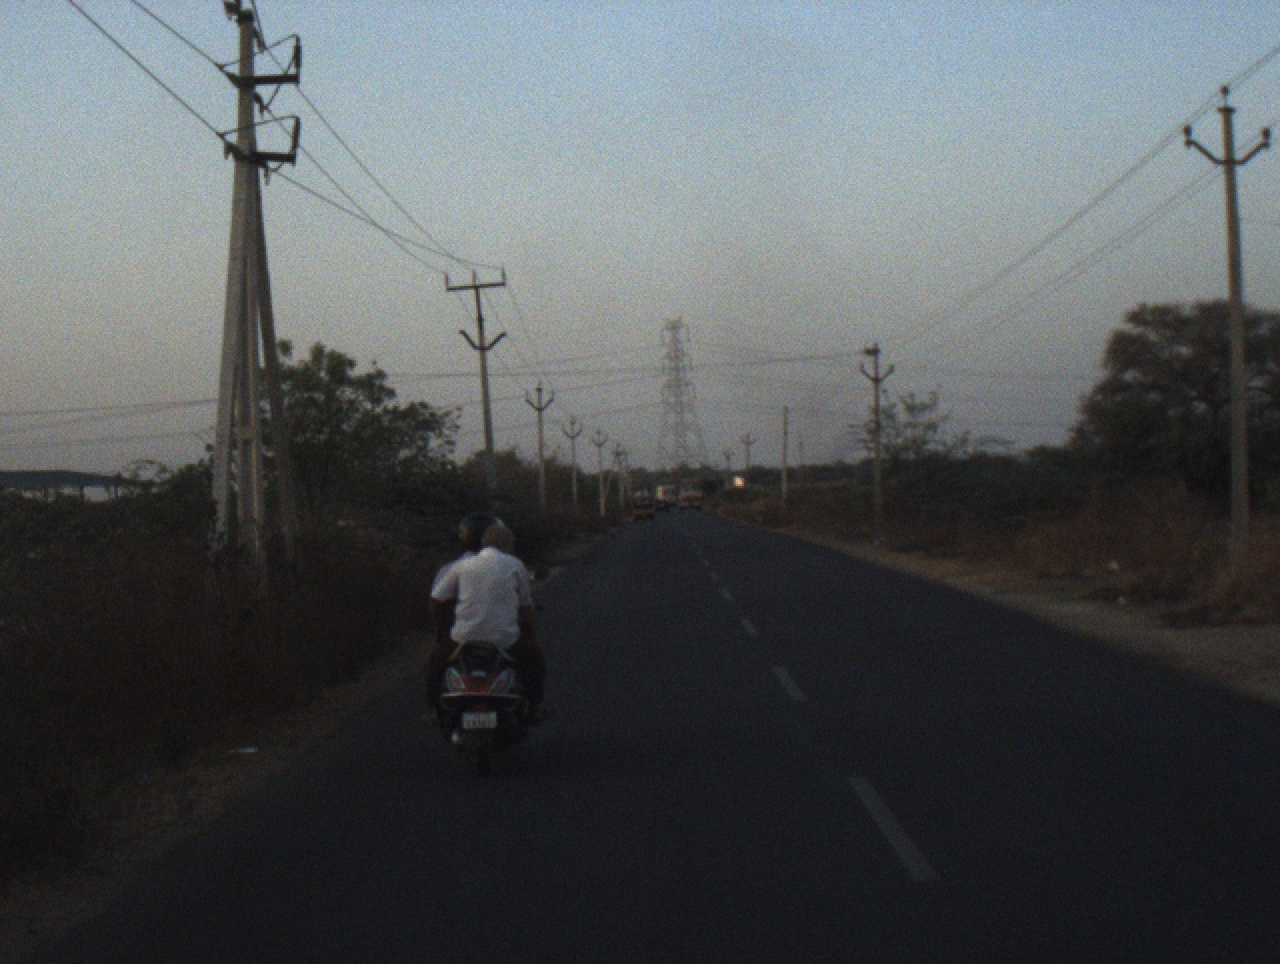autorickshaw: (629, 487, 657, 523)
car: (652, 496, 670, 513)
motorcycle: (422, 560, 553, 776)
rider: (415, 526, 553, 740), (430, 511, 546, 607)
truck: (676, 475, 703, 510), (657, 483, 676, 505)
